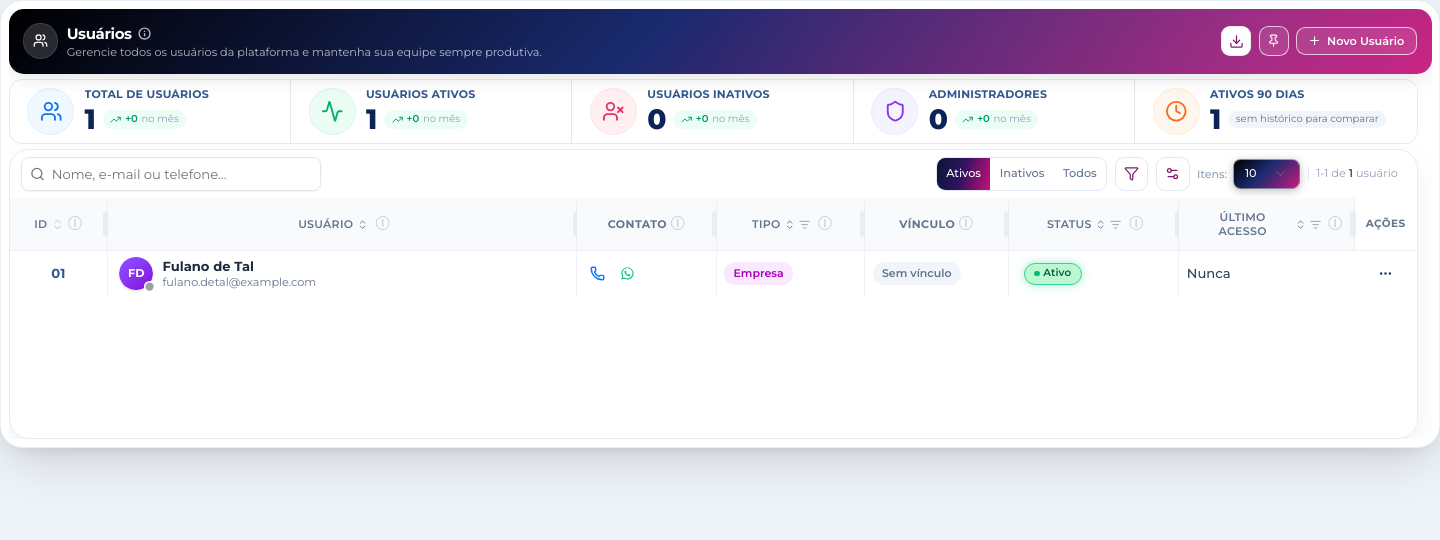
Test: admin/usuarios — bloquear/desbloquear (ação reversível) › 1. o texto do botão reflete a ação real (Bloquear/Desbloquear, nunca 'excluir')
Check: the text "Fulano de Tal" is shown, box [162,258,254,274]
Click the button named "Mais ações — Fulano de Tal" at (1385, 274), box [1370,259,1400,289]
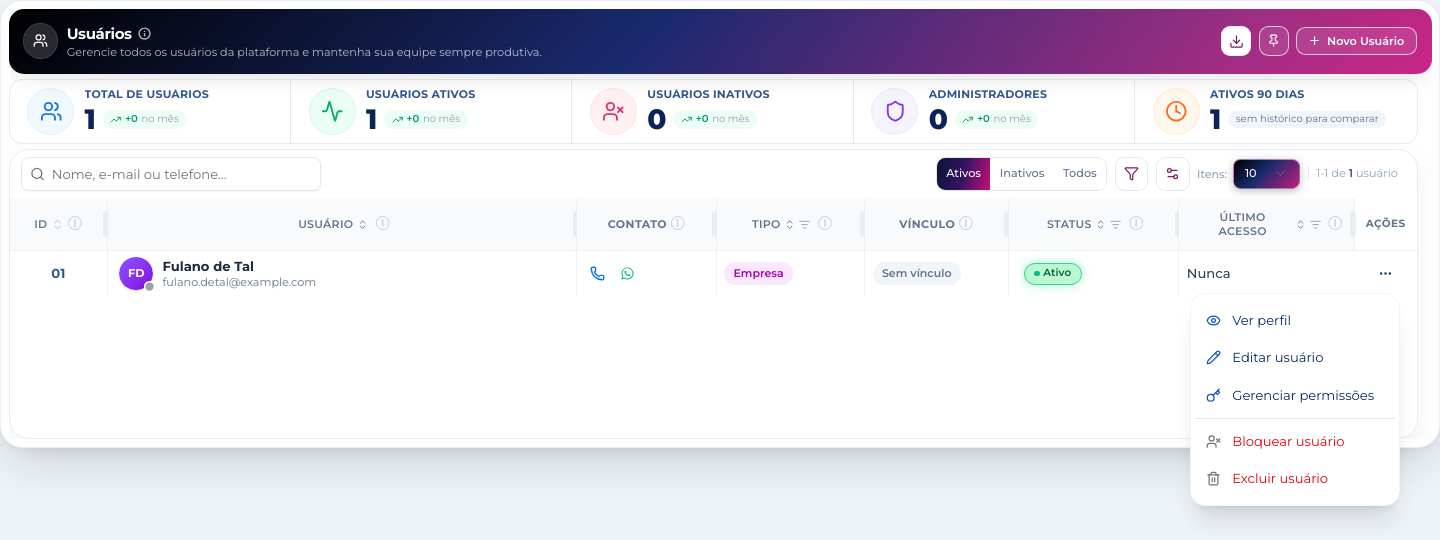
Check: the menu item "Bloquear usuário" is shown, box [1206,433,1344,449]
